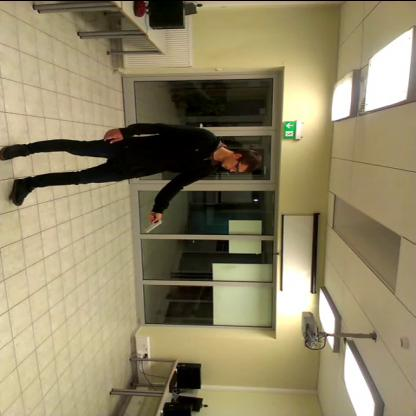Pistol: (132, 208, 172, 239)
